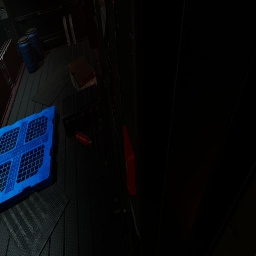FireAlarm ,: (123, 124, 136, 196)
FireExtinguisher ]: (74, 131, 92, 149)
